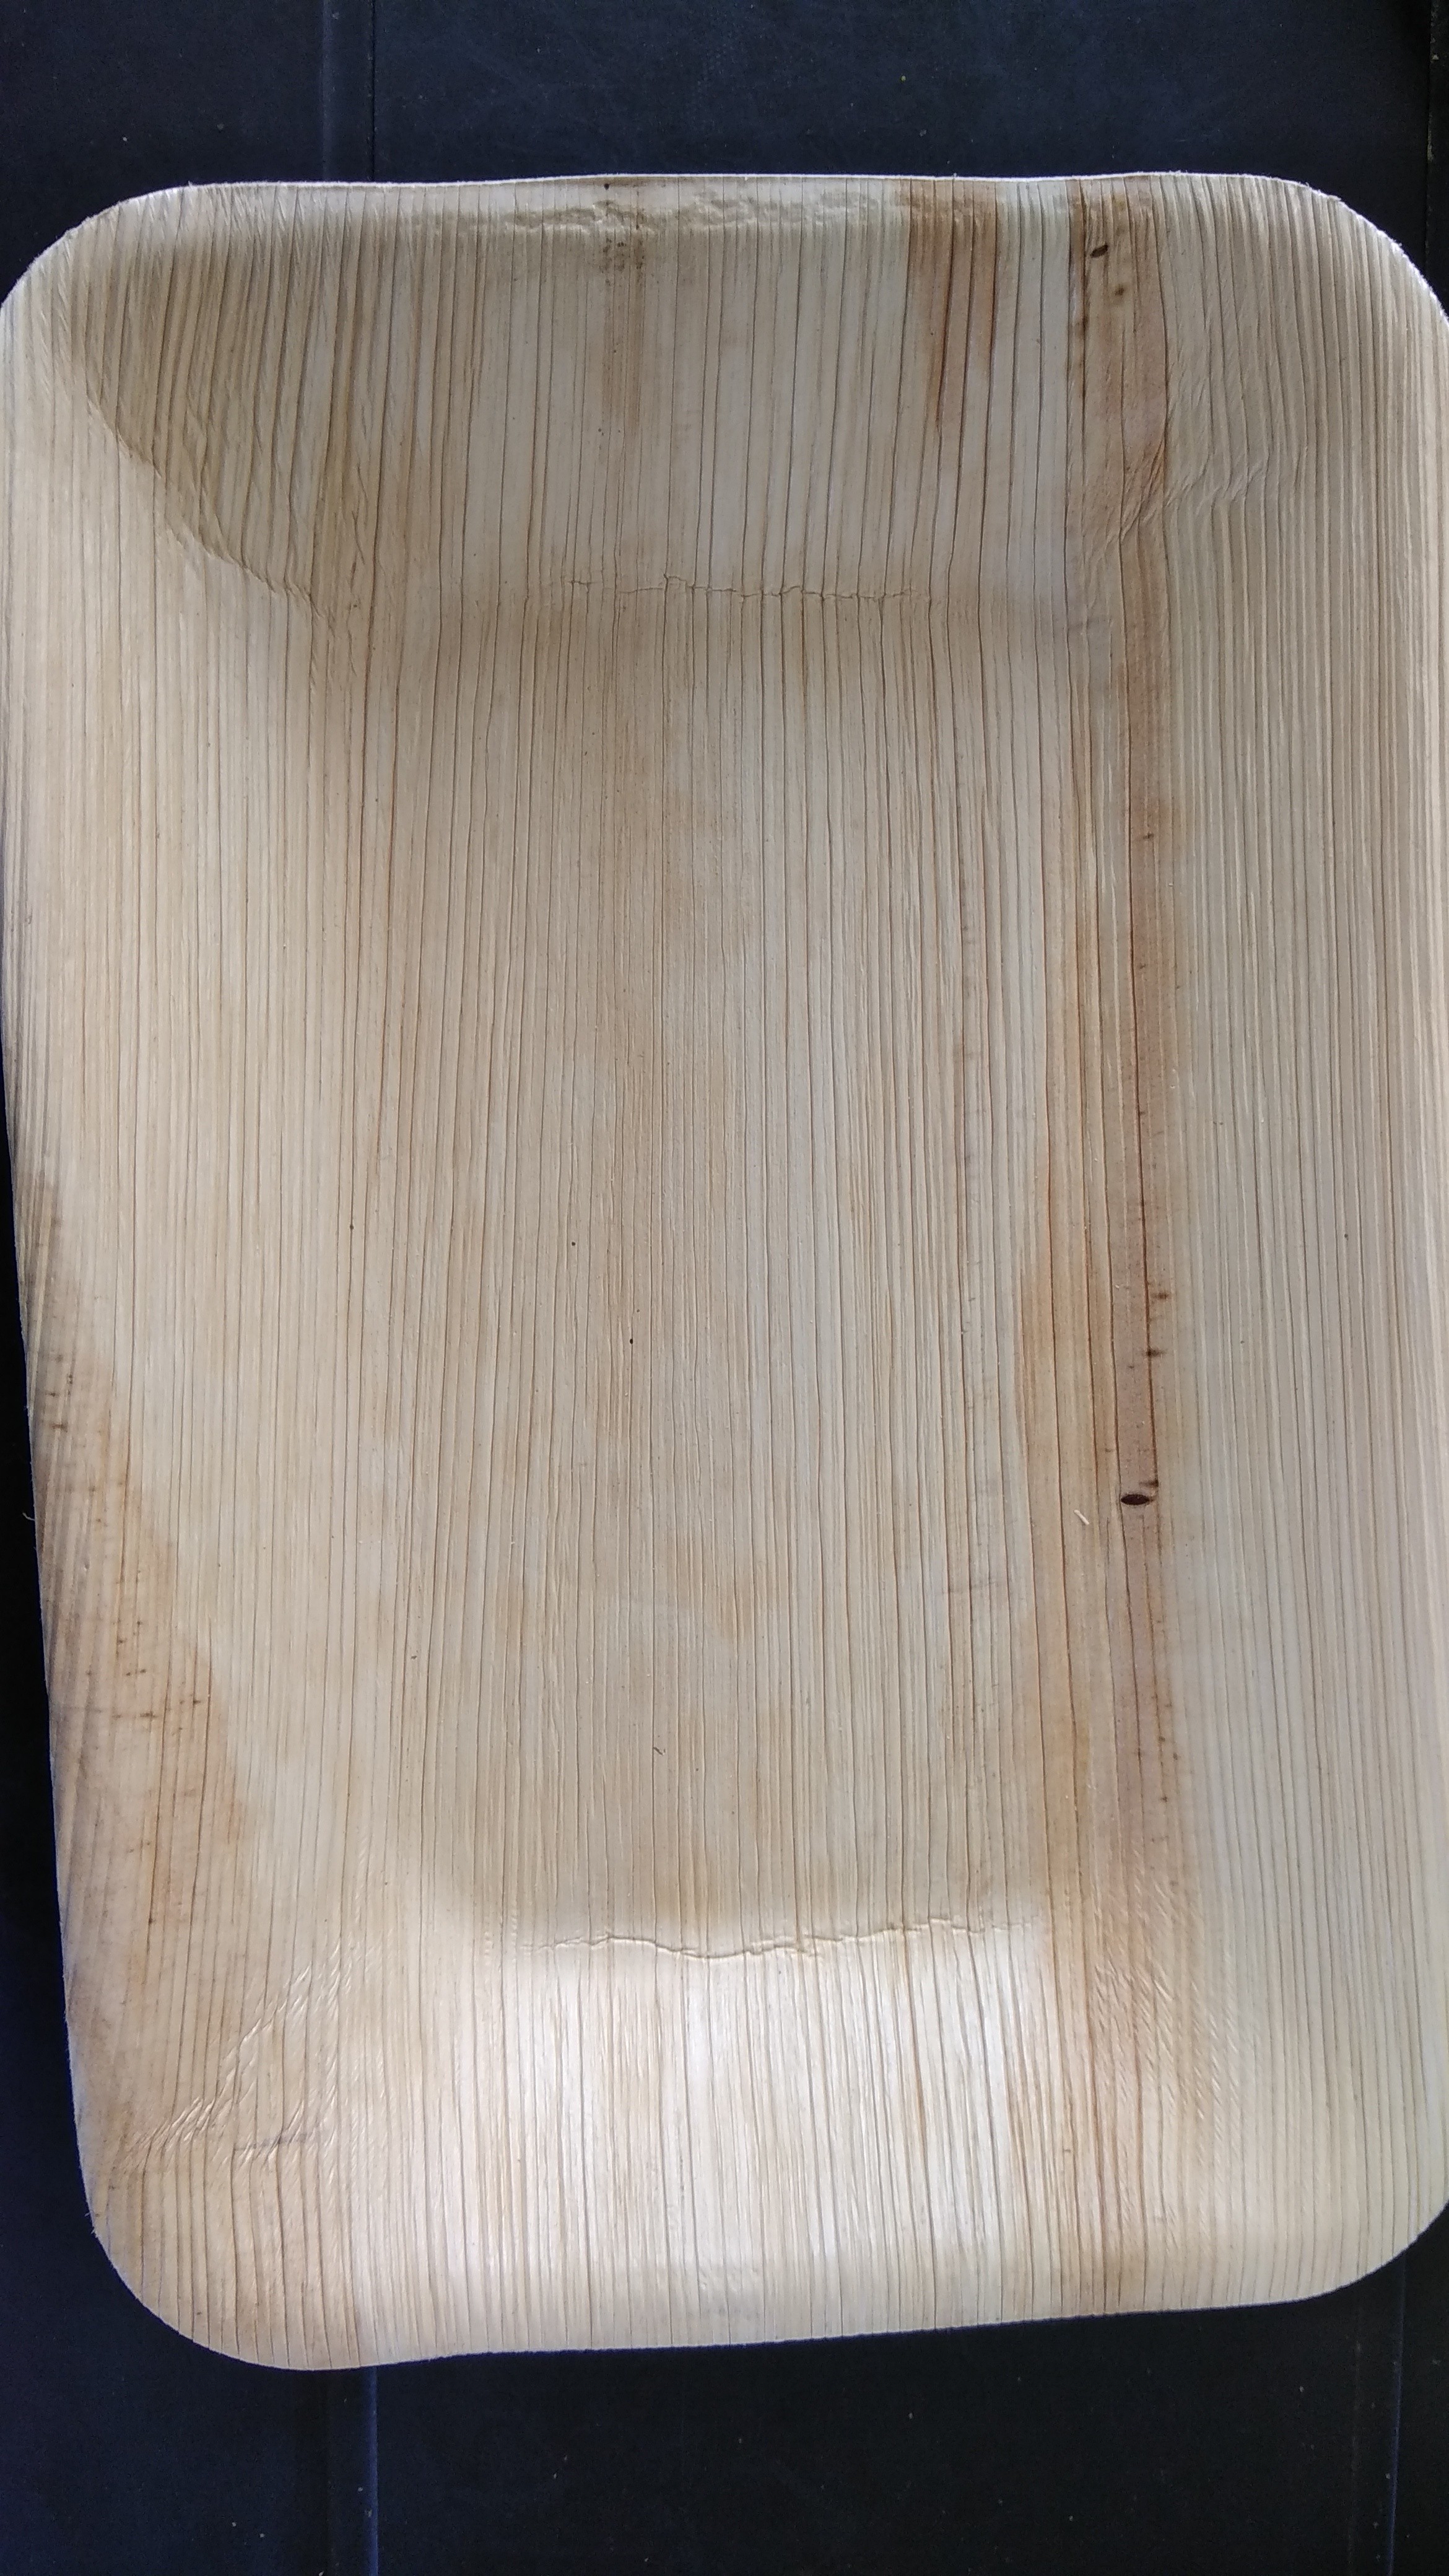areca plate: (28, 127, 1449, 2270)
